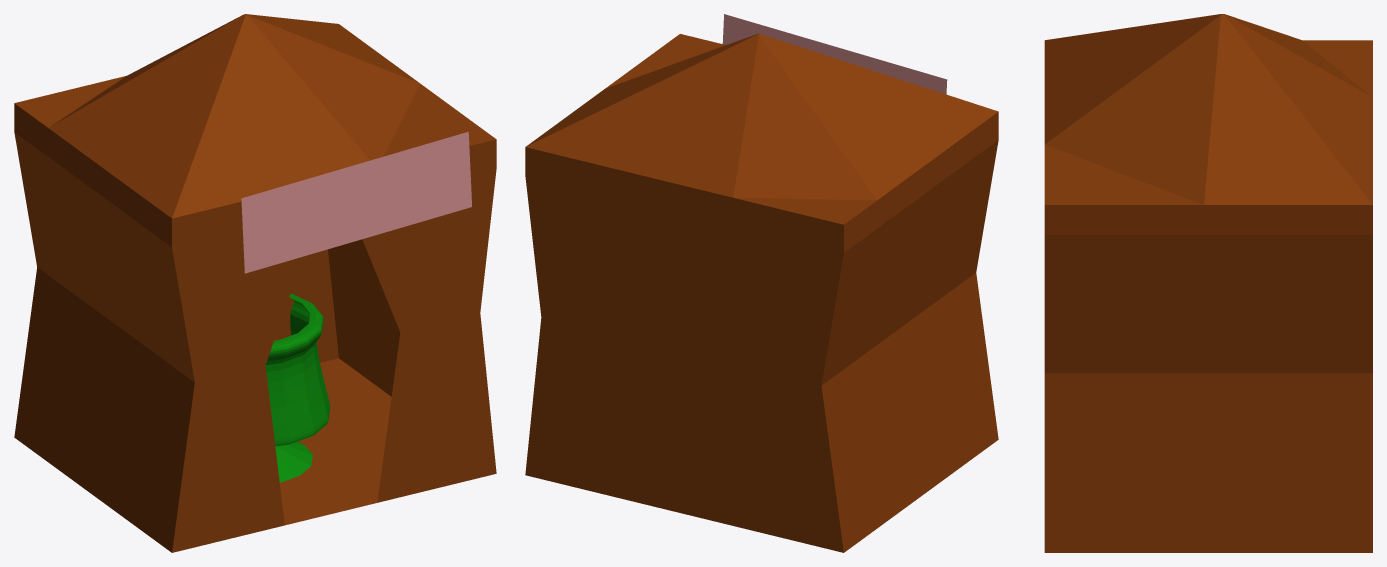
File: tarot.fbx
3 views of the same model, side by side, from view 1: azimuth 30°, elevation 25°; view 2: azimuth 150°, elevation 25°; view 3: azimuth 270°, elevation 25° (orthographic). The views are drawn at different scales.
Visible parts, largest first — view 1: tarot_2; view 2: tarot_2; view 3: tarot_2.
Part boxes in pixels (left/top/right/bottom): tarot_2: left=14, top=14, right=496, bottom=552; tarot_2: left=525, top=14, right=998, bottom=552; tarot_2: left=1044, top=14, right=1372, bottom=552.
Bounding box in the file's own units: 107 × 137 × 94.76.
